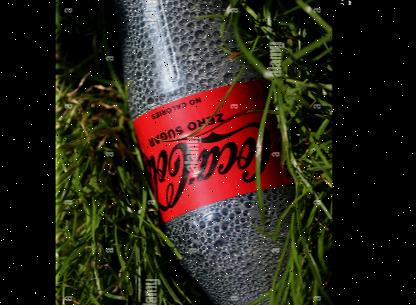Plastic Bottle: (77, 0, 300, 305)
